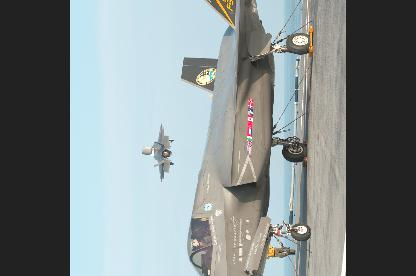F22: (177, 0, 311, 273), (142, 122, 173, 180)
